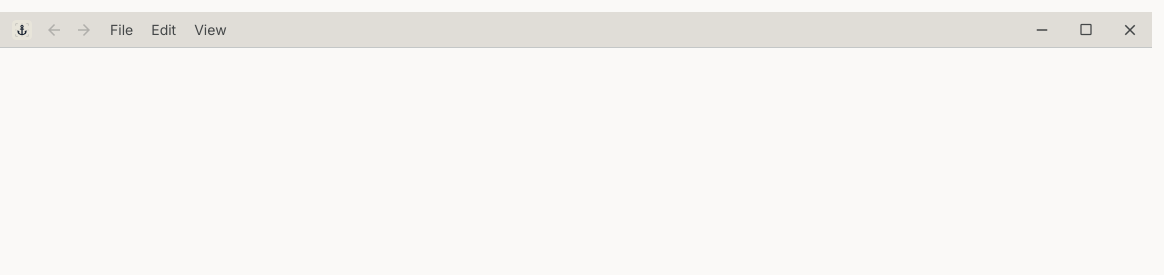
Test: <TitleBar /> › while the app is not showing its routes › greys out the File items that route, leaving Exit alive
This screenshot has width=1164, height=275.
Click the button "File" at (122, 30), box [102, 16, 141, 44]
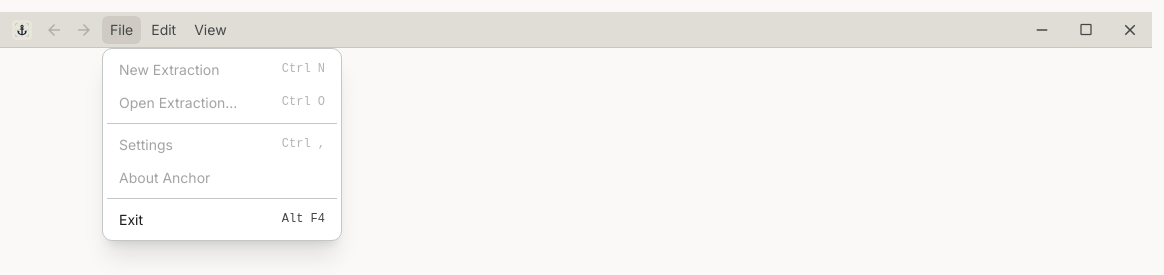
Check: the menu item "New Extraction Ctrl N" is disabled, box [107, 52, 337, 86]
Check: the menu item "Open Extraction… Ctrl O" is disabled, box [107, 86, 337, 118]
Check: the menu item "Settings Ctrl ," is disabled, box [107, 128, 337, 160]
